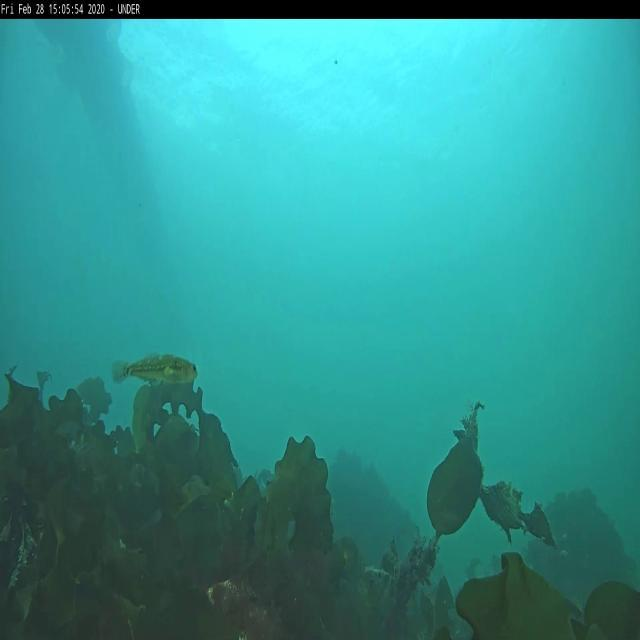fish: (117, 353, 196, 386)
